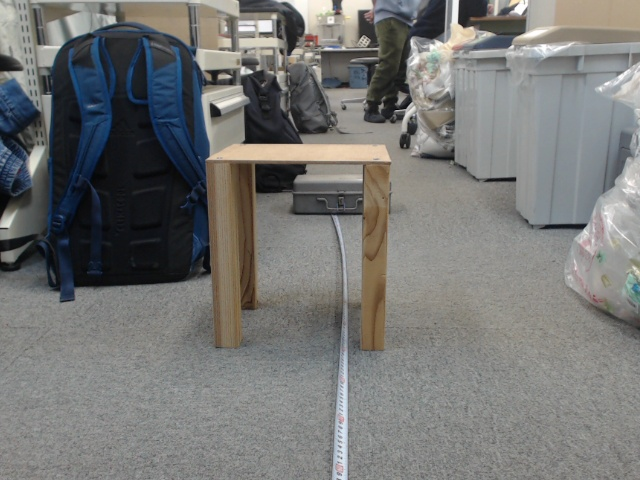desk: (286, 135, 516, 411)
